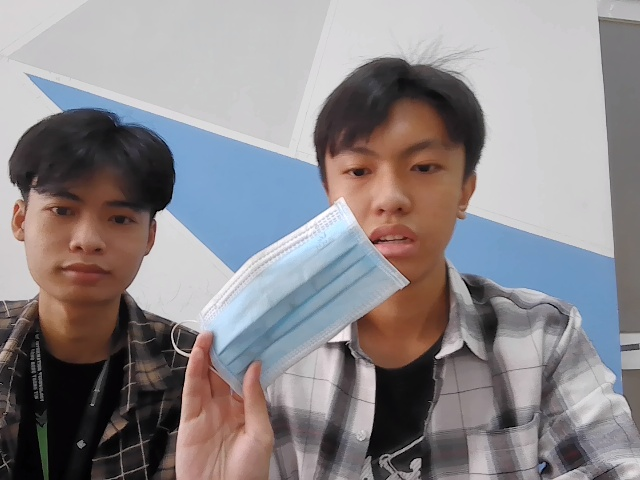human: (319, 44, 472, 290), (13, 103, 176, 307)
mask: (207, 192, 407, 378)
